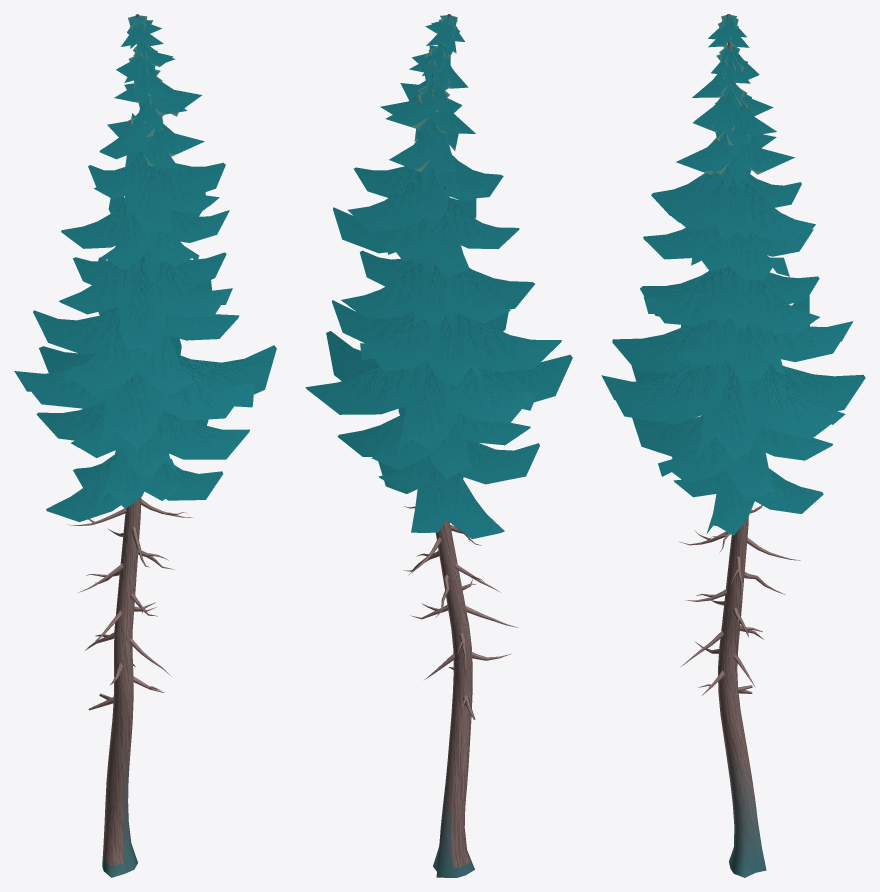
3 renders of one model, left to right at view 1: azimuth 30°, elevation 25°; view 2: azimuth 150°, elevation 25°; view 3: azimuth 270°, elevation 25°, orthographic.
Parts seen in each view (by area): view 1: submesh_1, submesh_0; view 2: submesh_1, submesh_0; view 3: submesh_1, submesh_0.
Part boxes in pixels (x1,y1,x2,y2): submesh_1: (14, 14, 276, 521); submesh_0: (67, 14, 193, 877); submesh_1: (305, 15, 572, 539); submesh_0: (403, 14, 518, 877); submesh_1: (601, 14, 865, 535); submesh_0: (679, 14, 800, 877).
Size of the model in its own units: 4.34 by 15.09 by 4.2.
Materials: 2 (2 with a texture image).
